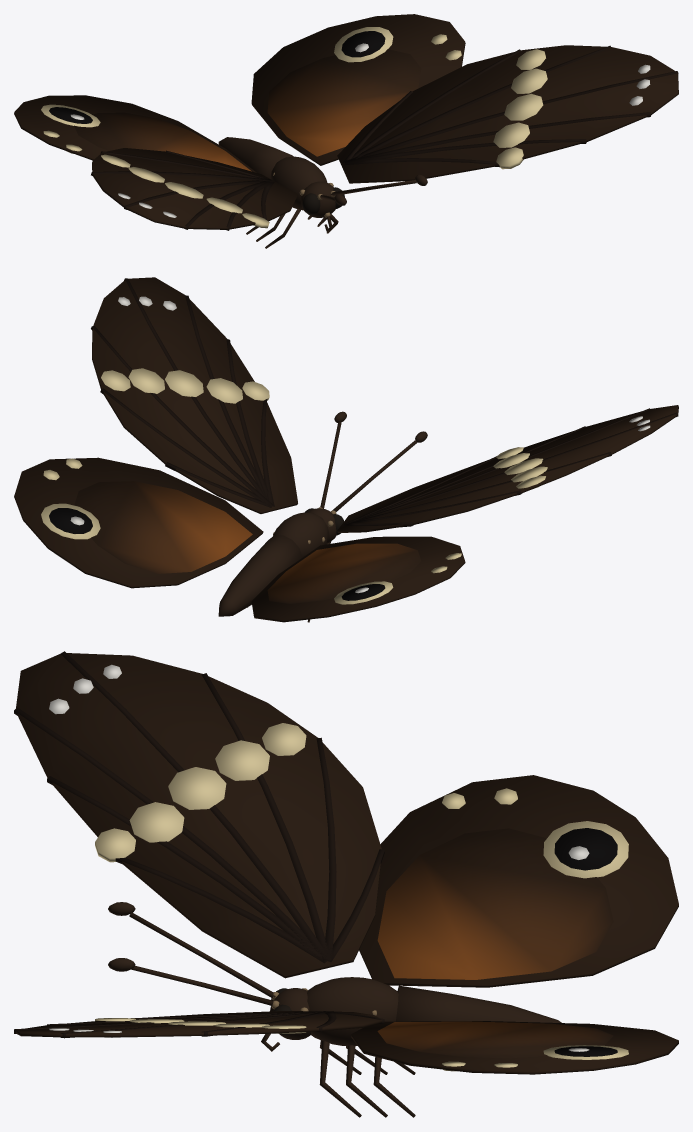
The model's file is ProdryasPersephone.fbx.
The picture shows the model from 3 angles, top to bottom: view 1: azimuth 30°, elevation 25°; view 2: azimuth 150°, elevation 25°; view 3: azimuth 270°, elevation 25°; orthographic projection. The views are drawn at different scales.
Visible parts, largest first — view 1: ProdryasPersephone; view 2: ProdryasPersephone; view 3: ProdryasPersephone.
Part boxes in pixels (x1=…): ProdryasPersephone: x1=14, y1=14, x2=678, y2=248; ProdryasPersephone: x1=14, y1=277, x2=678, y2=622; ProdryasPersephone: x1=14, y1=651, x2=678, y2=1117.
Size of the model in its own units: 1.04 by 0.3225 by 0.765.
